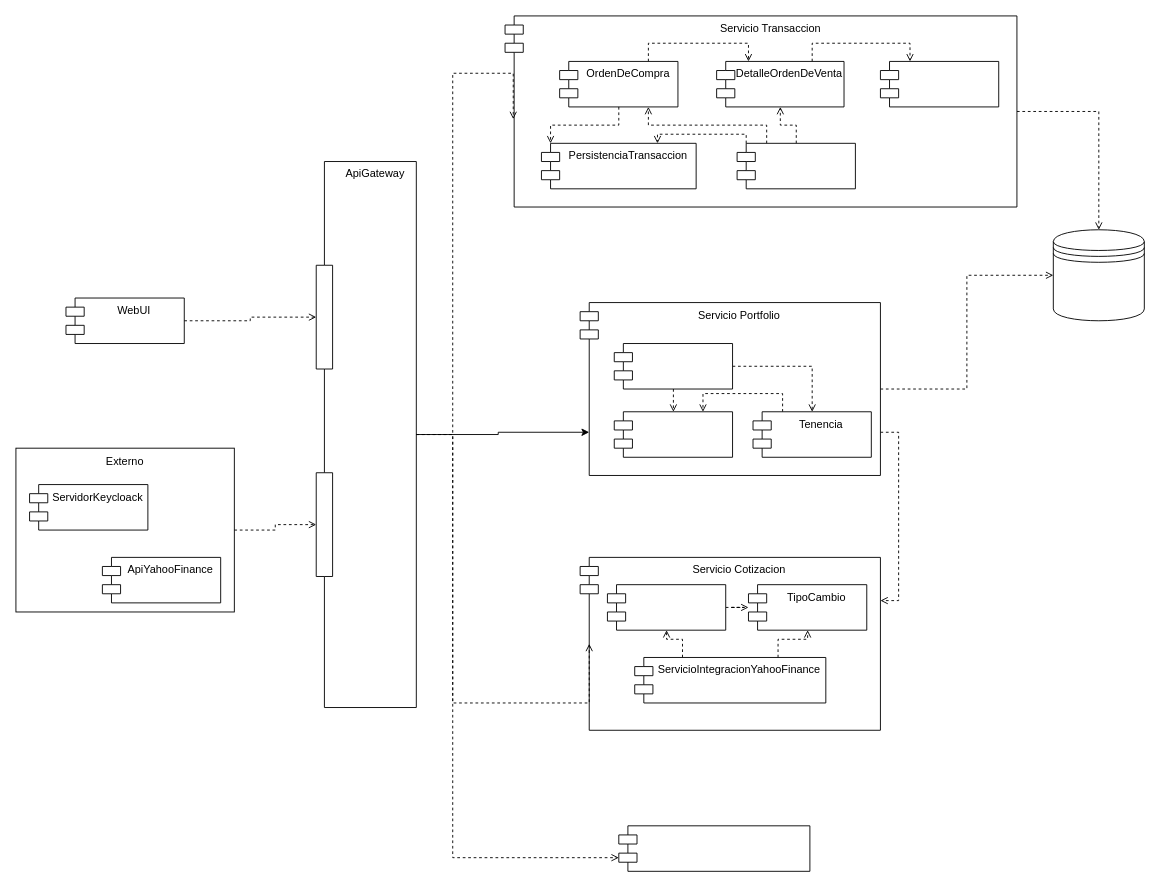
This 1160x887 diagram has some shape labels left out. Here are the shapes that lost their labels. From the top down, the centre of each, then its label:
(x=939, y=84): OrdenDeVenta
(x=795, y=165): Transaccion
(x=1098, y=275): Base de datos
(x=673, y=366): Portfolio
(x=673, y=434): PersistenciaPortfolio
(x=666, y=607): Accion
(x=714, y=848): ServicioIntegracionKeycloack
